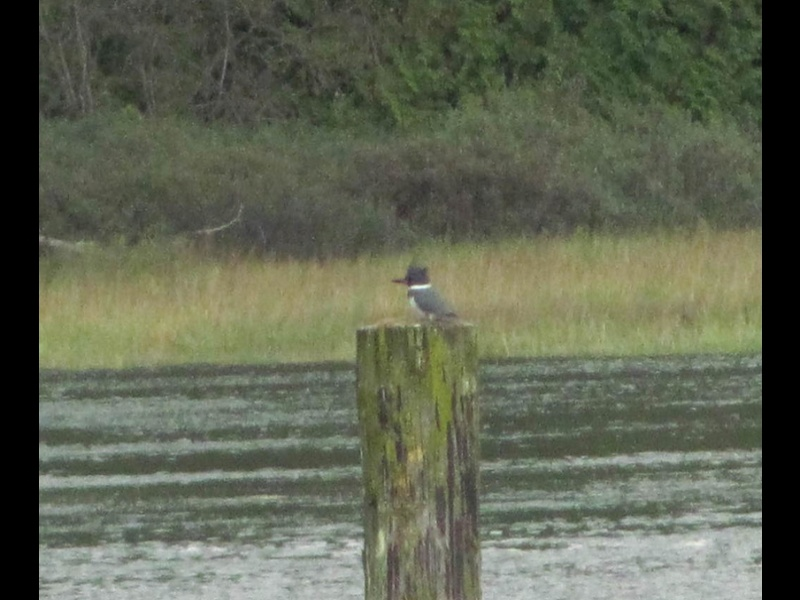kingfisher: (392, 261, 466, 329)
